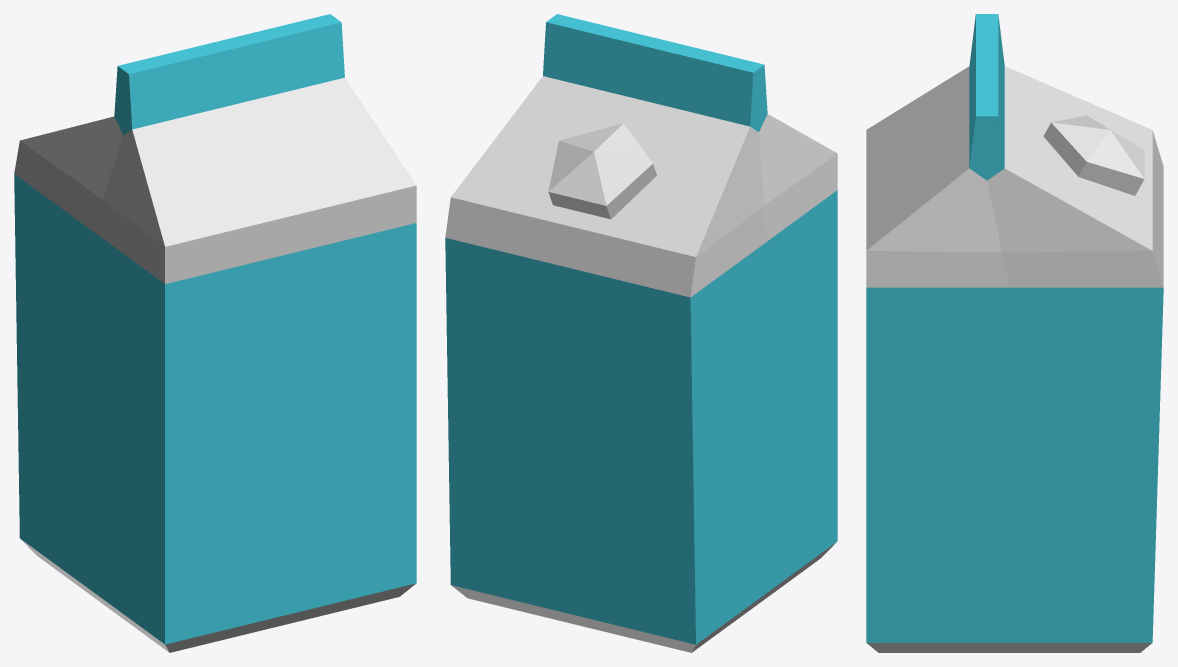
File: milk.fbx
3 renders of one model, left to right at view 1: azimuth 30°, elevation 25°; view 2: azimuth 150°, elevation 25°; view 3: azimuth 270°, elevation 25°, orthographic. The views are drawn at different scales.
Visible parts, largest first — view 1: Cube; view 2: Cube, Cylinder; view 3: Cube, Cylinder.
Part boxes in pixels (left/top/right/bottom): Cube: left=14, top=14, right=416, bottom=652; Cube: left=445, top=14, right=837, bottom=652; Cylinder: left=548, top=123, right=656, bottom=219; Cube: left=866, top=14, right=1163, bottom=652; Cylinder: left=1043, top=115, right=1144, bottom=195.
Size of the model in its own units: 200 by 410 by 208.
